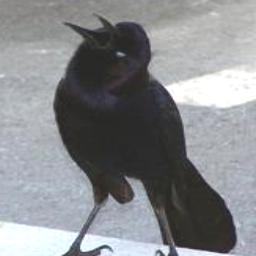Crow: (24, 11, 236, 256)
